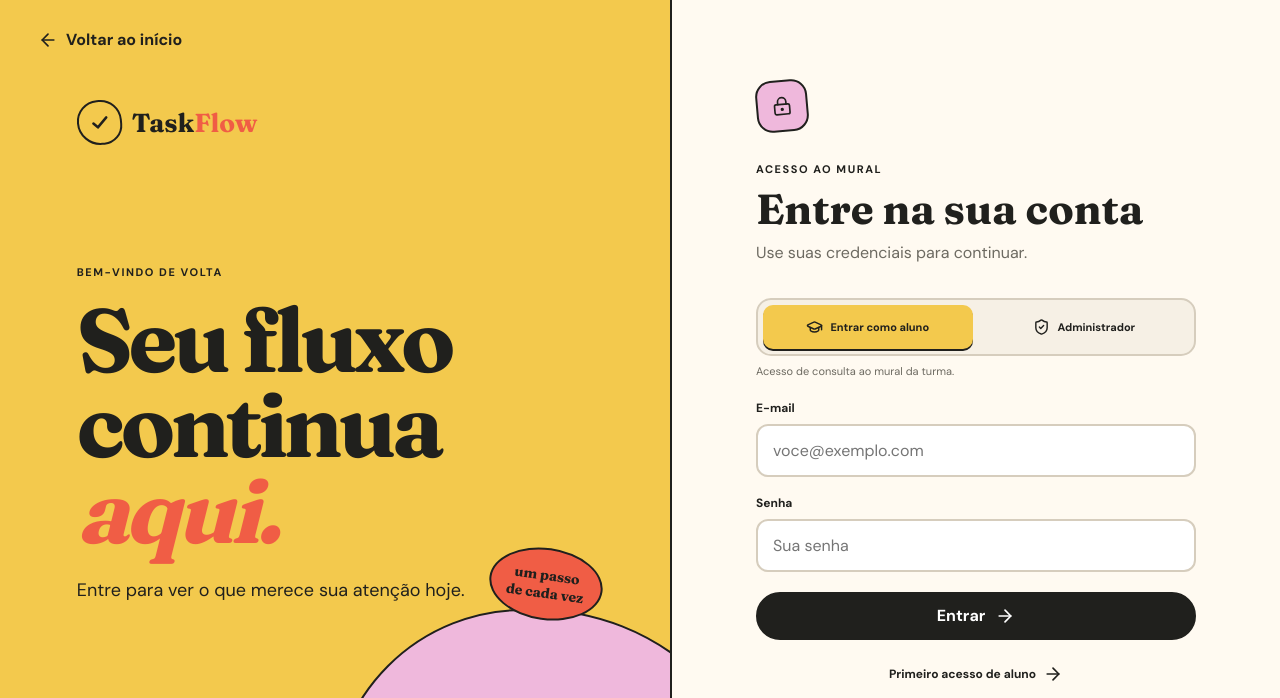
Test: App autenticação e autorização › mantém não autenticado no login e autentica via formulário
Step 1. Type "admin@test.com" into the field labelled "E-mail" → (976, 450), box left=756, top=424, right=1196, bottom=477
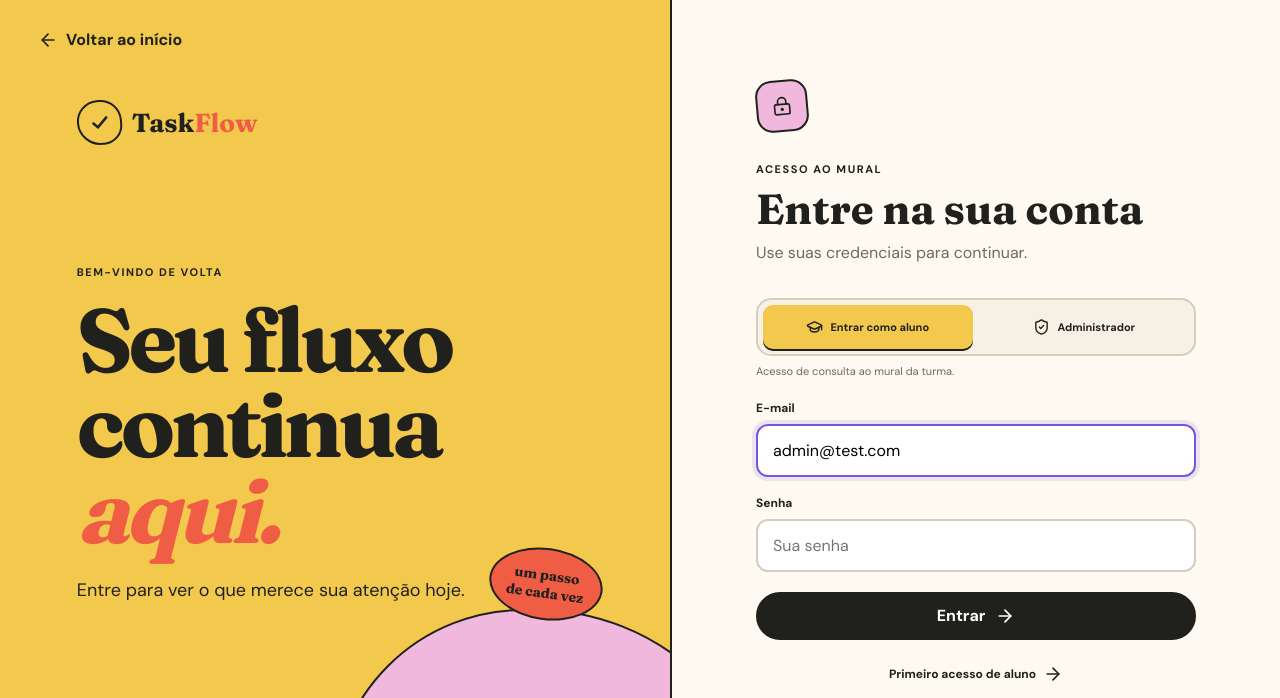
Step 2. Type "password123" into the password field labelled "Senha" → (976, 545), box left=756, top=519, right=1196, bottom=572
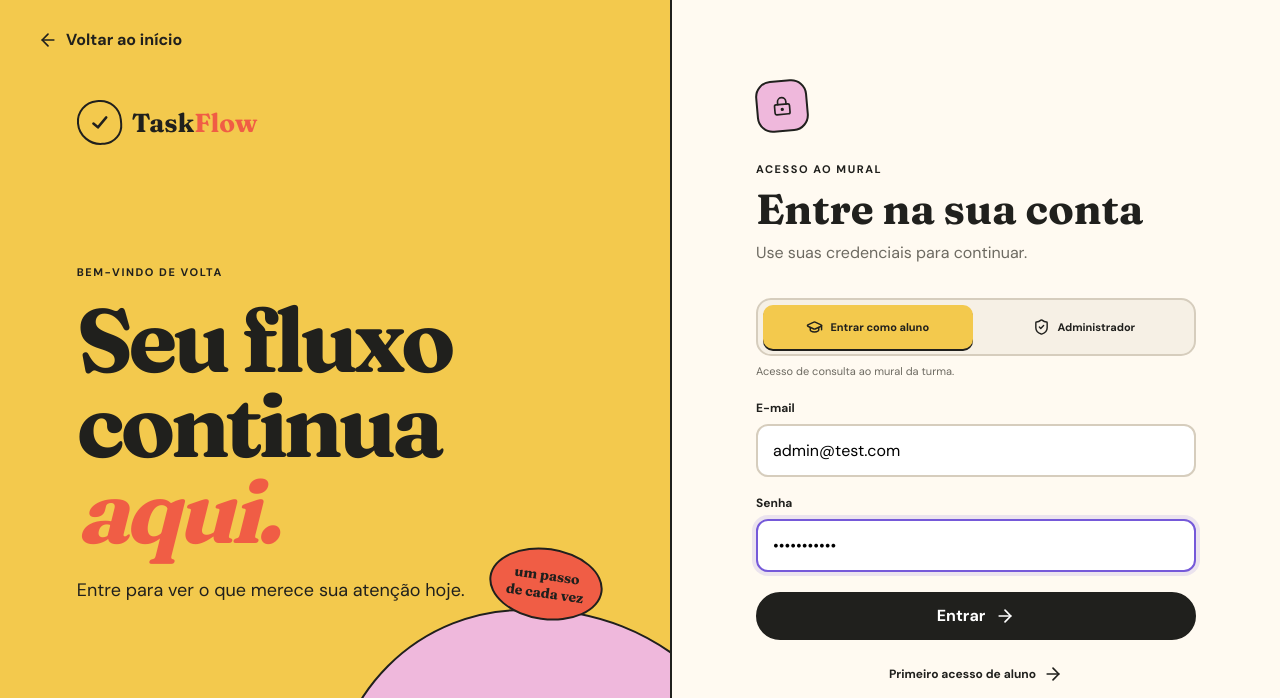
Step 3. Click the button "Entrar" → (976, 616), box left=756, top=592, right=1196, bottom=640
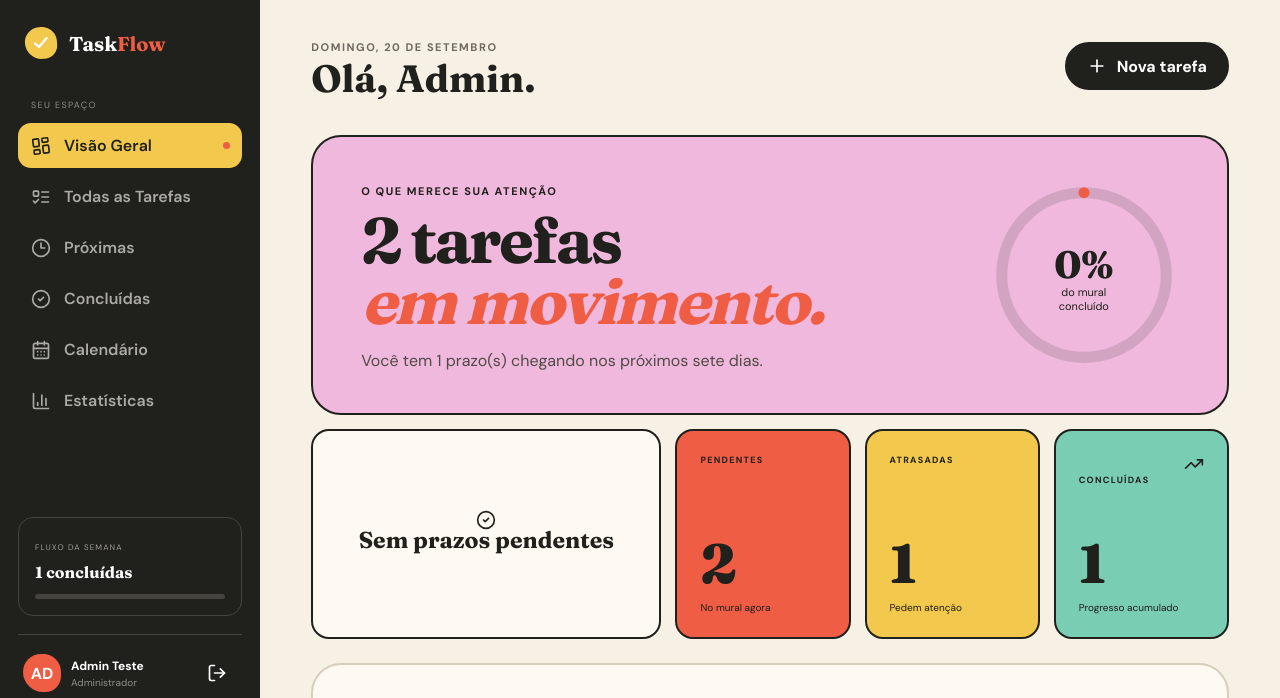
Expected: the text "Admin Teste" is shown, left=71, top=658, right=144, bottom=674
